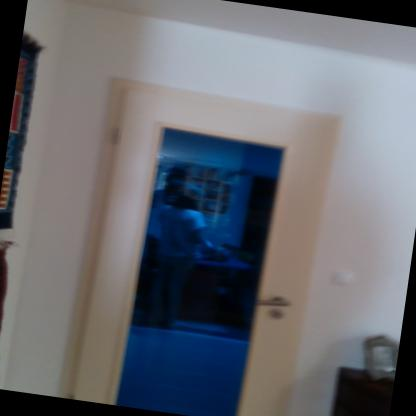closed: (49, 71, 353, 415)
